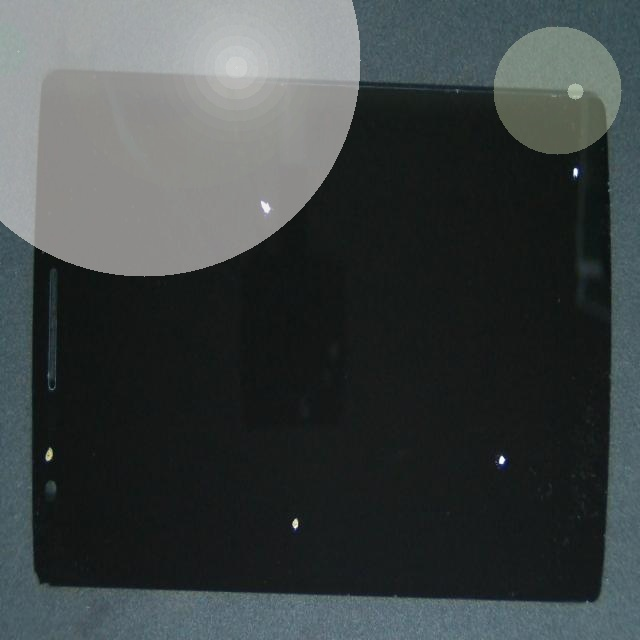stain: (278, 193, 640, 640), (163, 239, 441, 640), (293, 51, 640, 221), (139, 53, 377, 271), (0, 200, 65, 640)
